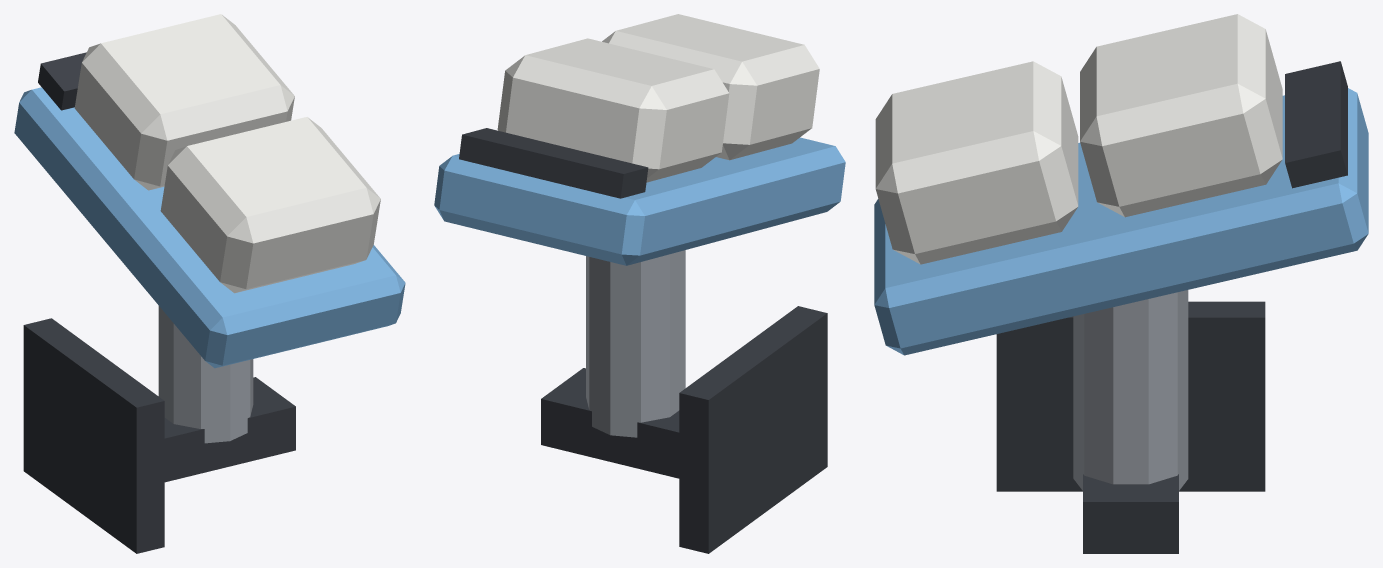
File: autoreply_m1_1.glb
3 views of the same model, side by side, from view 1: azimuth 30°, elevation 25°; view 2: azimuth 150°, elevation 25°; view 3: azimuth 270°, elevation 25° (orthographic). The views are drawn at different scales.
Visible parts, largest first — view 1: autoreply_m1_1_mesh; view 2: autoreply_m1_1_mesh; view 3: autoreply_m1_1_mesh.
Boxes of the visible parts, x1,y1,x2,y2 form: autoreply_m1_1_mesh: [14, 14, 405, 553]; autoreply_m1_1_mesh: [434, 14, 845, 553]; autoreply_m1_1_mesh: [874, 14, 1368, 553].
Size of the model in its own units: 0.16 by 0.2874 by 0.2579.
